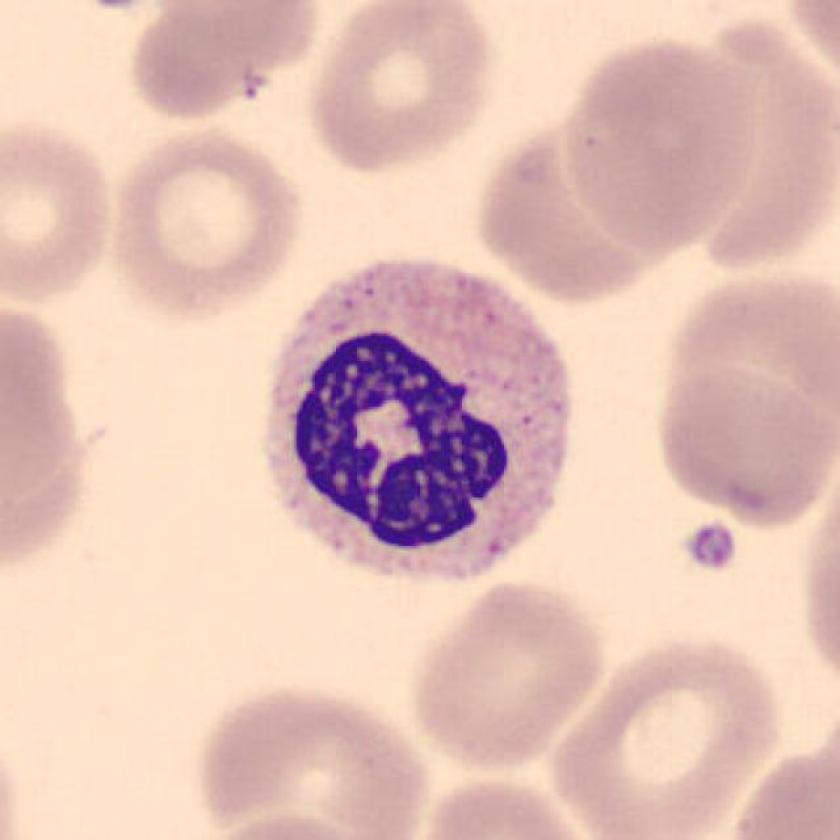neutrophil: (272, 253, 570, 580)
